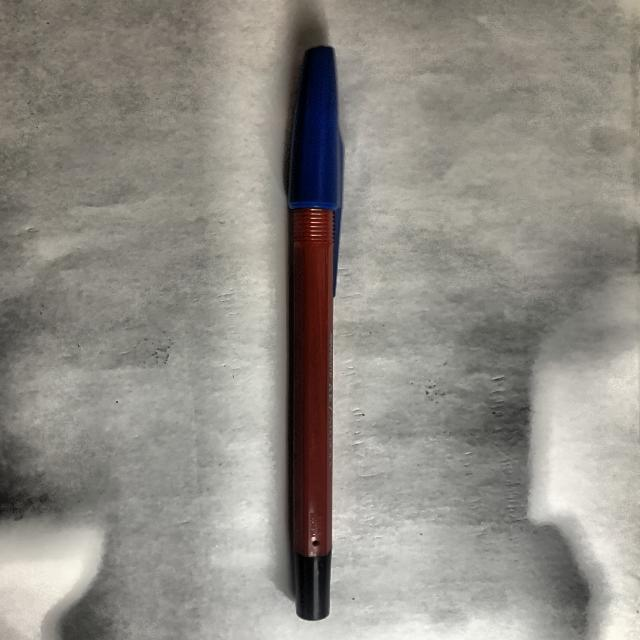Pulpen: (269, 44, 370, 629)
